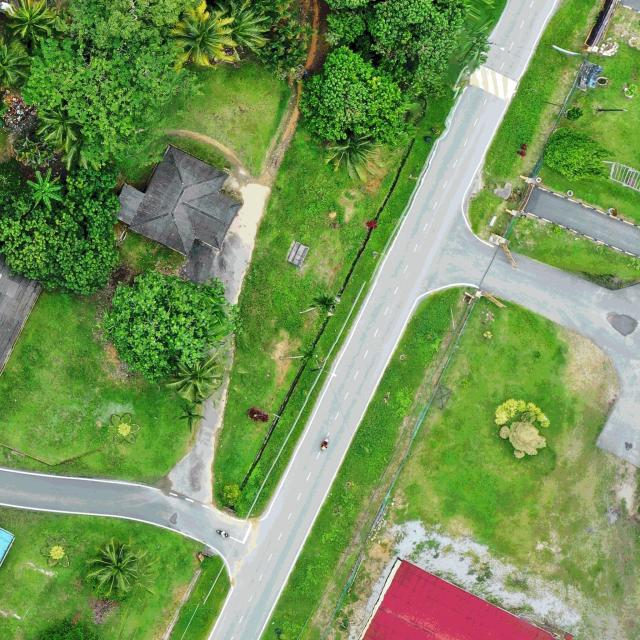Tree: (21, 32, 195, 172), (0, 163, 122, 297), (104, 268, 233, 384), (299, 43, 417, 151), (364, 0, 471, 102), (168, 4, 235, 73), (86, 536, 152, 595), (542, 127, 614, 181), (494, 398, 552, 458), (325, 127, 383, 182), (167, 354, 224, 401), (34, 102, 85, 152), (0, 0, 55, 42), (0, 32, 32, 88), (26, 167, 64, 213)
